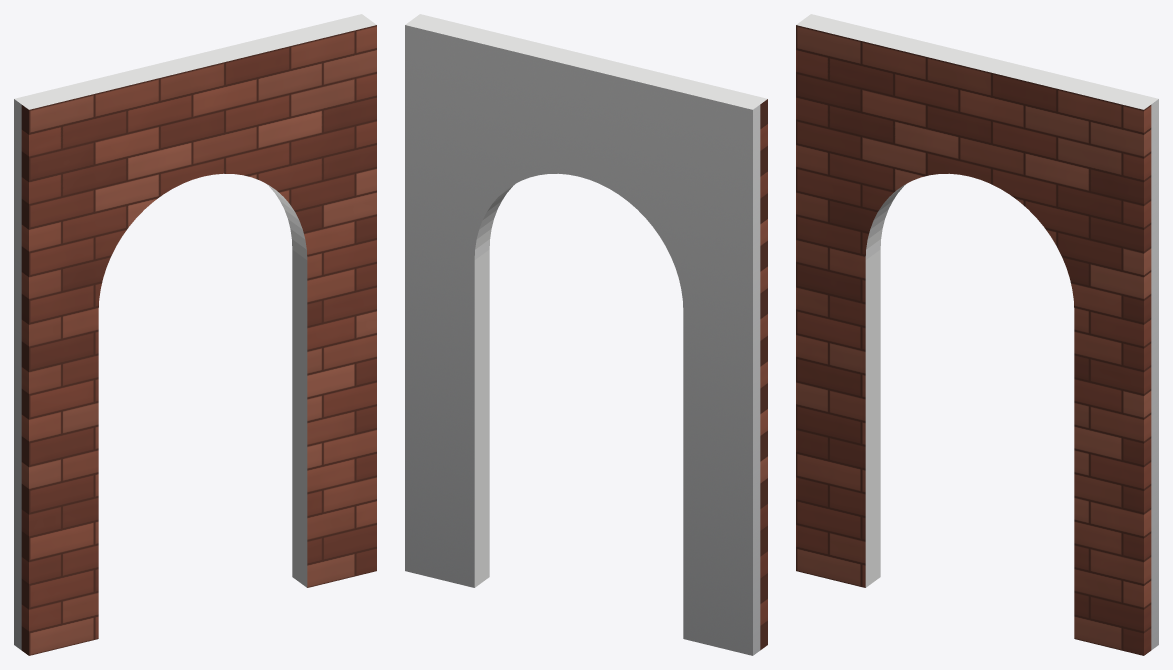
File: arco_2m.glb
3 renders of one model, left to right at view 1: azimuth 30°, elevation 25°; view 2: azimuth 150°, elevation 25°; view 3: azimuth 330°, elevation 25°, orthographic.
Parts seen in each view (by area): view 1: arco_2m; view 2: arco_2m; view 3: arco_2m.
Part boxes in pixels (x1,y1,x2,y2): arco_2m: [14, 14, 376, 655]; arco_2m: [405, 14, 767, 655]; arco_2m: [796, 14, 1158, 655].
Size of the model in its own units: 2 by 3 by 0.15.
Materials: 3 (2 with a texture image).
